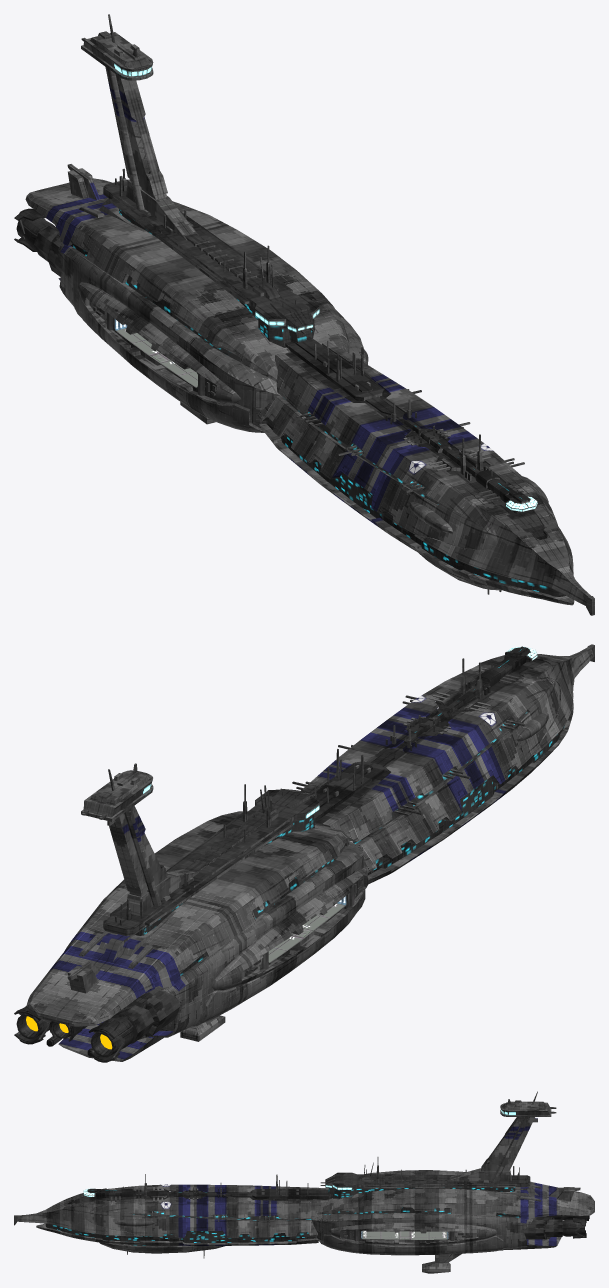
File: providence.glb
3 renders of one model, top to bottom at view 1: azimuth 30°, elevation 25°; view 2: azimuth 150°, elevation 25°; view 3: azimuth 270°, elevation 25°, orthographic. The views are drawn at different scales.
Visible parts, largest first — view 1: jorodox_0; view 2: jorodox_0; view 3: jorodox_0.
Boxes of the visible parts, left/top/right/bottom form: jorodox_0: left=14, top=14, right=594, bottom=615; jorodox_0: left=14, top=644, right=594, bottom=1062; jorodox_0: left=14, top=1091, right=594, bottom=1273.
Size of the model in its own units: 15.54 by 28.67 by 83.41.
1 material, 1 textured.
